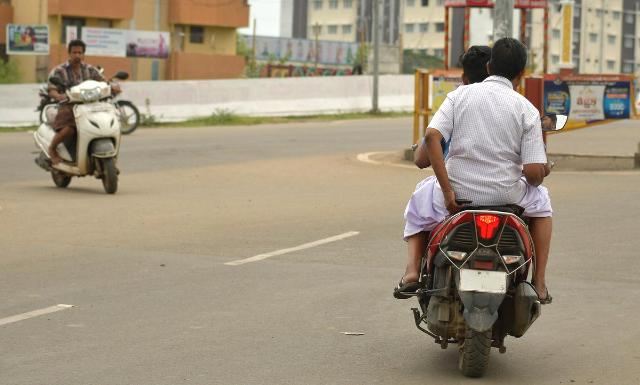licensePlate: (463, 268, 509, 295)
motorcycle: (410, 35, 557, 374), (35, 36, 129, 193)
withoutHelmet: (488, 39, 529, 86), (457, 45, 489, 80), (63, 38, 89, 63)
